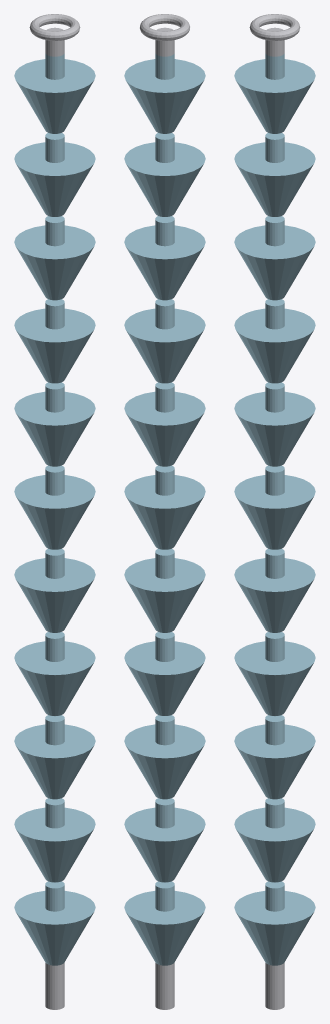
The model's file is Cadena_1331mm.fbx.
3 renders of one model, left to right at view 1: azimuth 90°, elevation 25°; view 2: azimuth 150°, elevation 25°; view 3: azimuth 270°, elevation 25°, orthographic.
Parts seen in each view (by area): view 1: Cadena_1331mm; view 2: Cadena_1331mm; view 3: Cadena_1331mm.
Part boxes in pixels (<box>): Cadena_1331mm: <box>14,14,95,1009</box>; Cadena_1331mm: <box>124,14,205,1009</box>; Cadena_1331mm: <box>234,14,315,1009</box>.
Bounding box in the file's own units: 10 × 133 × 10.
